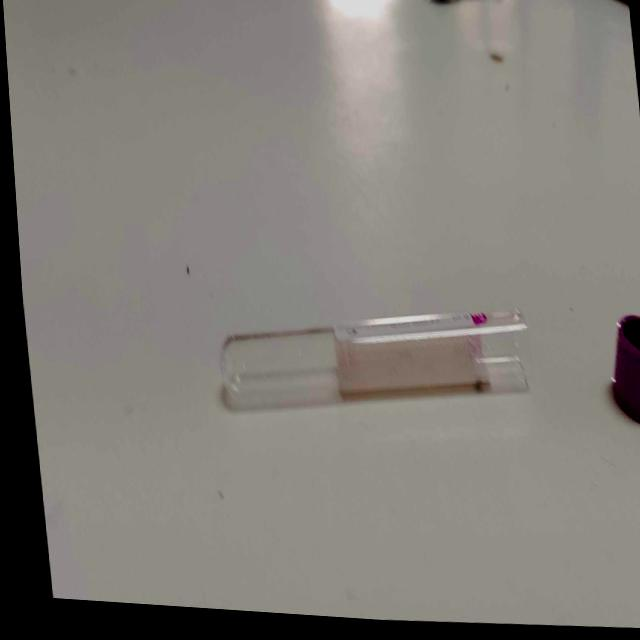General: (610, 312, 640, 425)
Sharps: (220, 305, 531, 412)
